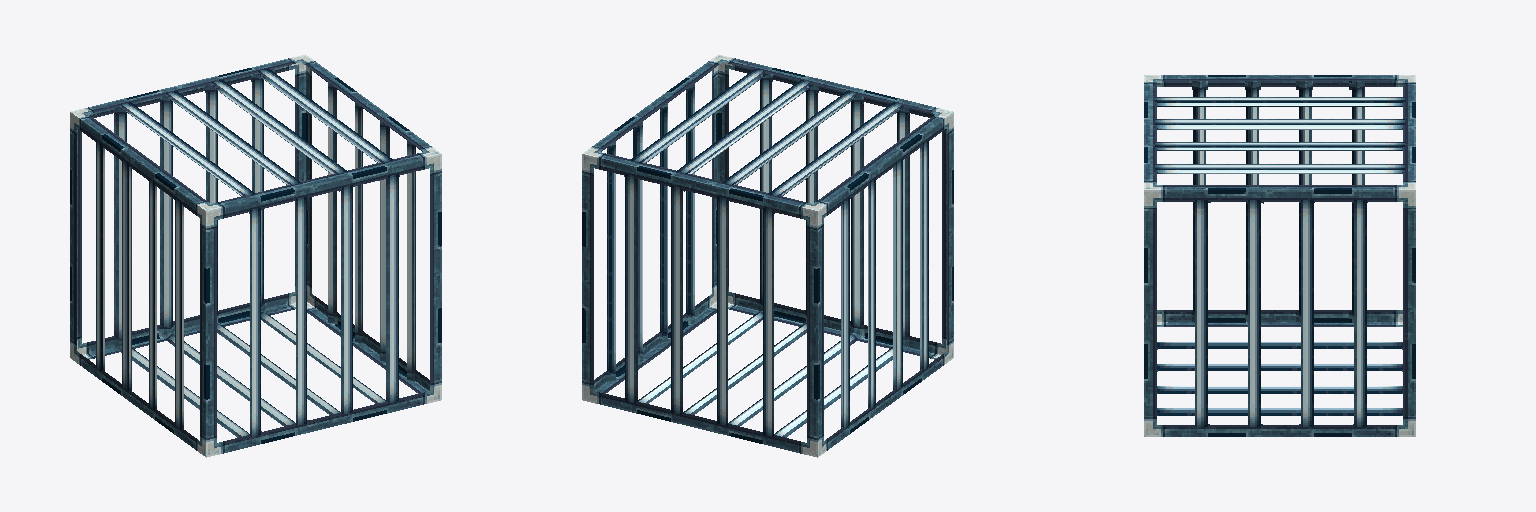
The picture shows the model from 3 angles: view 1: azimuth 30°, elevation 25°; view 2: azimuth 150°, elevation 25°; view 3: azimuth 270°, elevation 25°; orthographic projection.
Size of the model in its own units: 20 by 20 by 20.
1 materials, 1 textured.